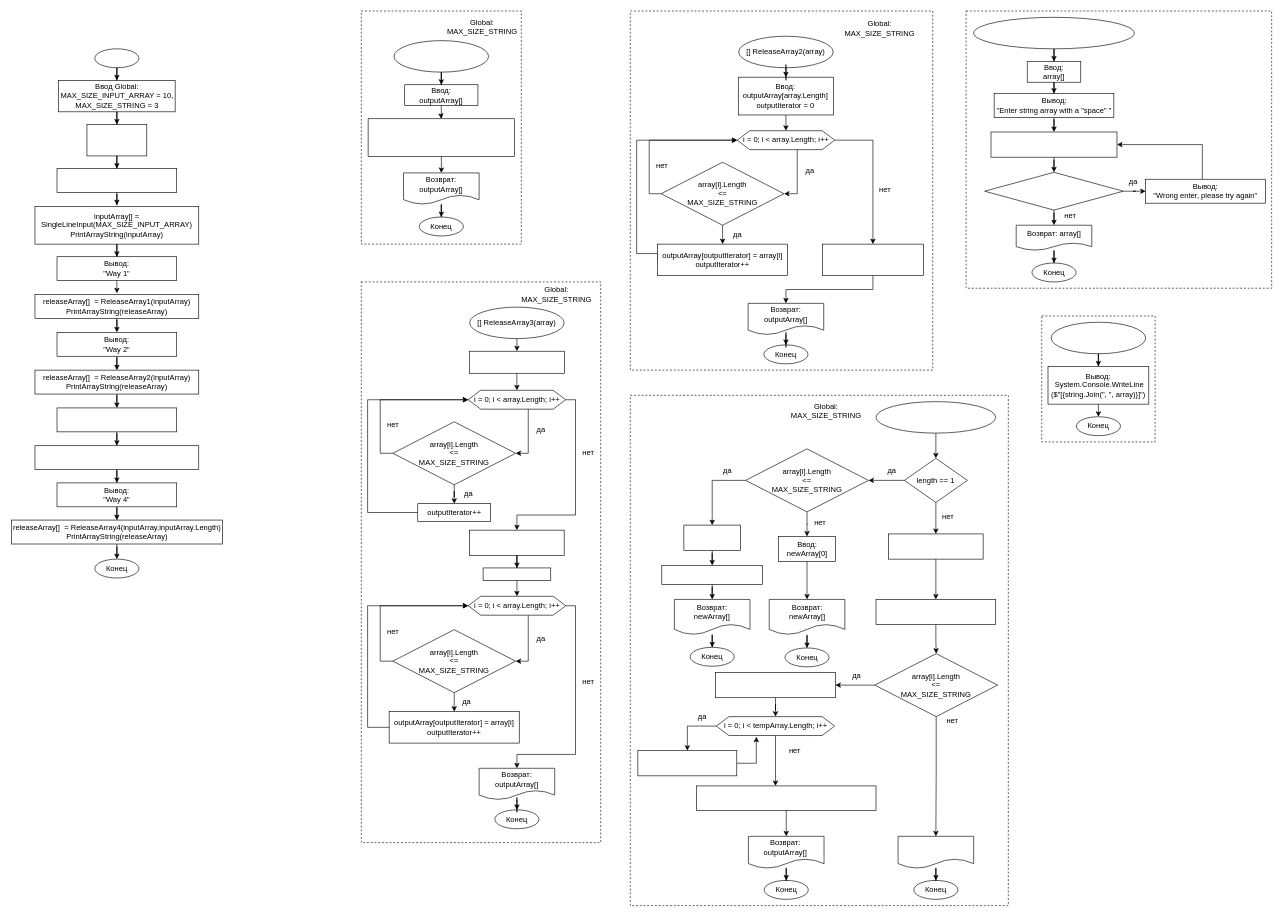
This 1283x917 diagram has some shape labels left out. The centre of each missing label's shape, as x and y in pixels:
[] ReleaseArray1(array): [441,56]
[] ReleaseArray4(array[], length): [935,417]
[] SingleLineInput(maxSizeArray): [1053,33]
array.Length > maxSizeArray: [1053,191]
Array.Resize (outputArray, outputIterator): [872,259]
newArray[] = array[length - 1]: [712,574]
outputArray = array.Where (x => x.Length <= MAX_SIZE_STRING) .ToArray(): [441,137]
outputArray[i] = tempArray[i]: [687,763]
outputArray[tempArray.Length] = array[length - 1]: [786,797]
outputIterator = 0: [516,574]
PrintArrayString(array): [1098,338]
releaseArray[] = ReleaseArray3(inputArray) PrintArrayString(releaseArray): [116,457]
tempArray[] = ReleaseArray4(array[], length - 1): [935,612]
Ввод: inputArray[], releaseArray[]: [116,140]
Ввод: newArray[1]: [712,537]
Ввод: outputArray[outputIterator]: [516,542]
Ввод: outputArray[tempArray.Length + 1]: [775,685]
Ввод: outputIterator = 0: [516,362]
Ввод: tempArray[]: [935,546]
Возврат: tempArray[]: [935,852]
Вывод: "Please enter array ": [116,180]
Вывод: "Way 3 ": [116,419]
Начало: [116,58]
Считать ввод пользователя: array = Console.ReadLine().Split(" "): [1053,144]
